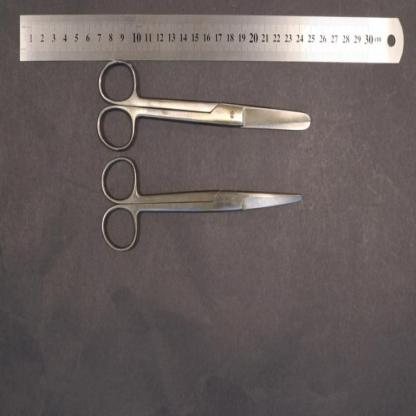Curved Mayo Scissors: (99, 155, 302, 257)
Dressing Scissors: (95, 55, 310, 153)
